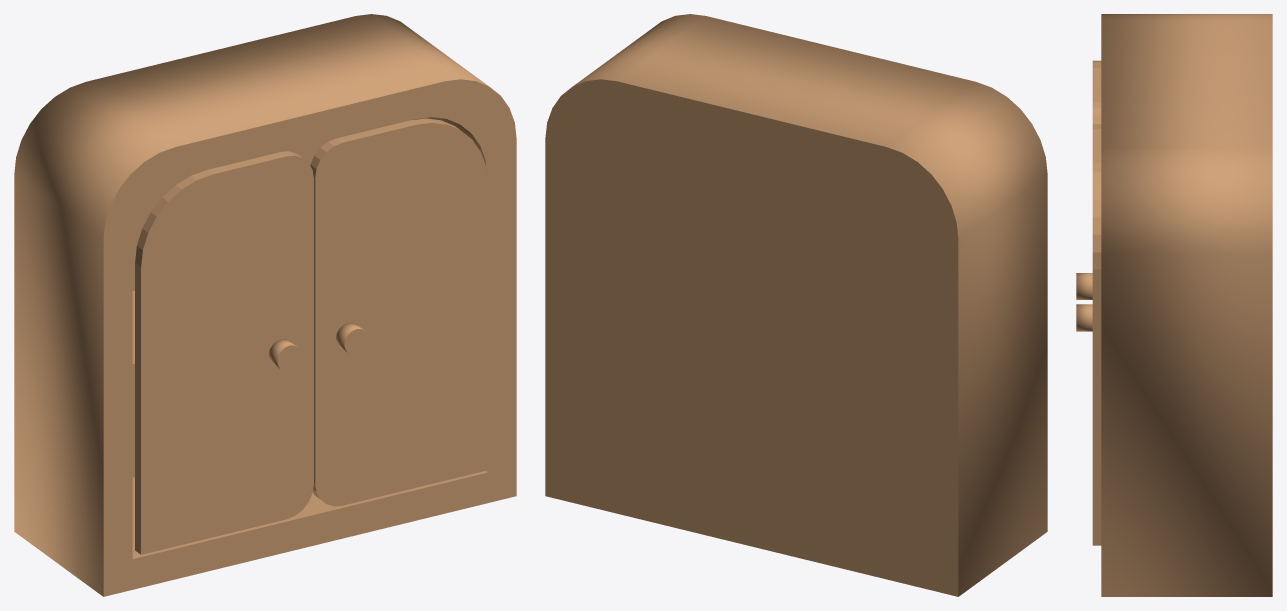
File: cabinet.fbx
The picture shows the model from 3 angles, left to right: view 1: azimuth 30°, elevation 25°; view 2: azimuth 150°, elevation 25°; view 3: azimuth 270°, elevation 25°; orthographic projection. The views are drawn at different scales.
Parts seen in each view (by area): view 1: cabinet, cabinet_door_r, cabinet_door_l; view 2: cabinet; view 3: cabinet, cabinet_door_l, cabinet_door_r.
Part boxes in pixels (bbox=[...]): cabinet: bbox=[14, 14, 516, 596]; cabinet_door_r: bbox=[135, 151, 313, 554]; cabinet_door_l: bbox=[310, 118, 487, 506]; cabinet: bbox=[545, 14, 1047, 596]; cabinet: bbox=[1101, 14, 1272, 596]; cabinet_door_l: bbox=[1076, 126, 1101, 545]; cabinet_door_r: bbox=[1076, 60, 1101, 299].
Bounding box in the file's own units: 313 × 313 × 134.
